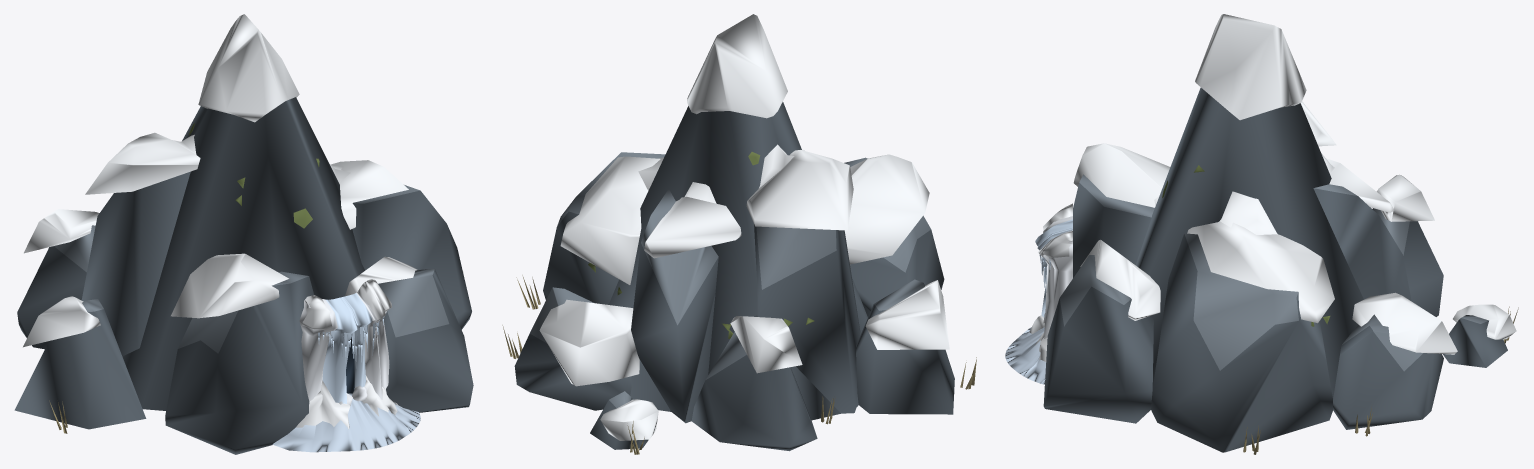
File: Casa_Iglu.glb
3 views of the same model, side by side, from view 1: azimuth 30°, elevation 25°; view 2: azimuth 150°, elevation 25°; view 3: azimuth 270°, elevation 25° (orthographic). The views are drawn at different scales.
Parts seen in each view (by area): view 1: Casa; view 2: Casa; view 3: Casa.
Boxes of the visible parts, x1=… form: Casa: x1=14, y1=14, x2=473, y2=454; Casa: x1=502, y1=14, x2=976, y2=454; Casa: x1=1005, y1=14, x2=1518, y2=454.
Size of the model in its own units: 2.82 by 2.05 by 2.83.
